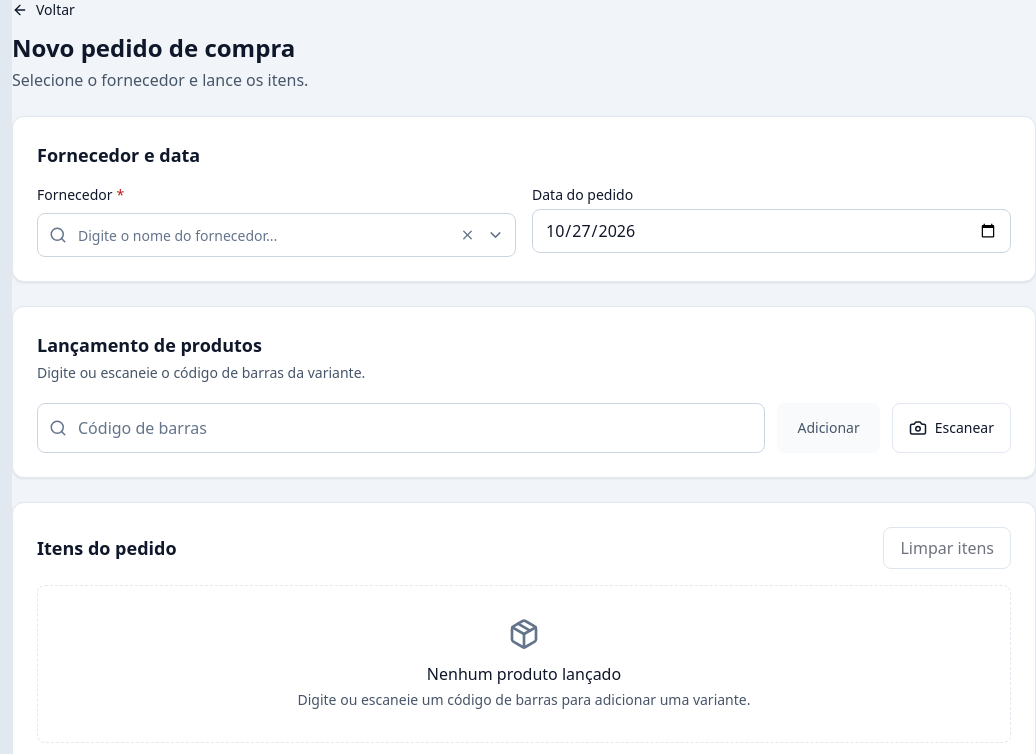
it: PurchaseCreatePage › mais de 2 casas decimais é inválido: mensagem no campo e nenhum envio
Step 1. Type "Acm" into the dropdown with placeholder "Digite o nome do fornecedor..." → (276, 235), box [37, 213, 516, 257]
(page scrolled)
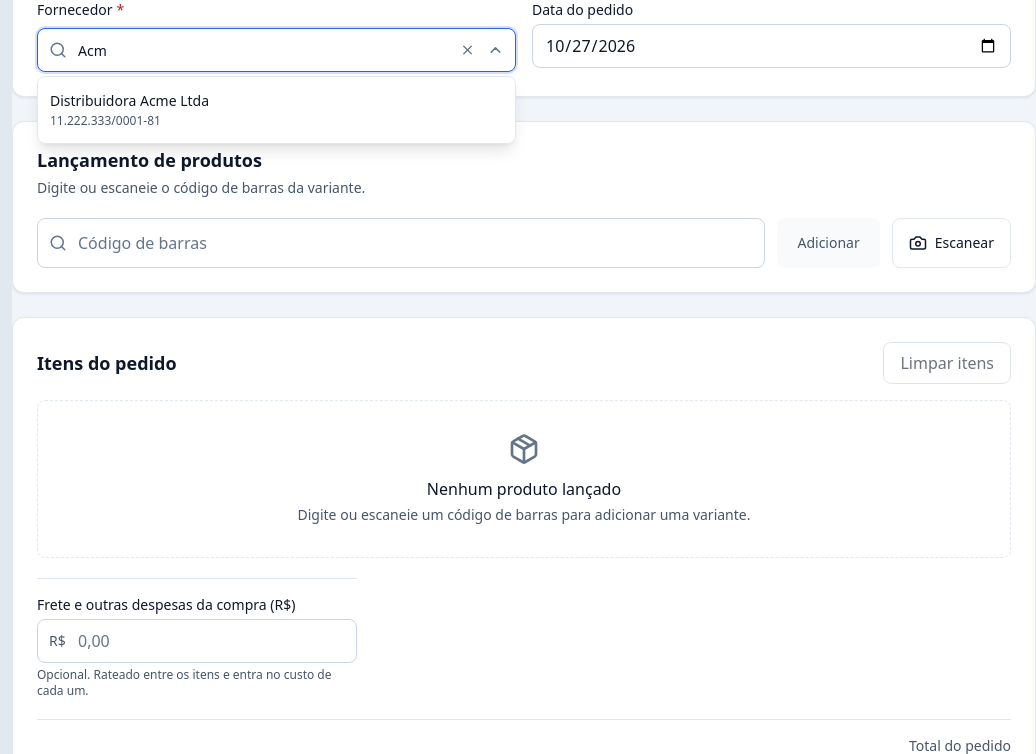
Step 2. Click the text "Distribuidora Acme Ltda" → (130, 101), box [50, 91, 209, 111]
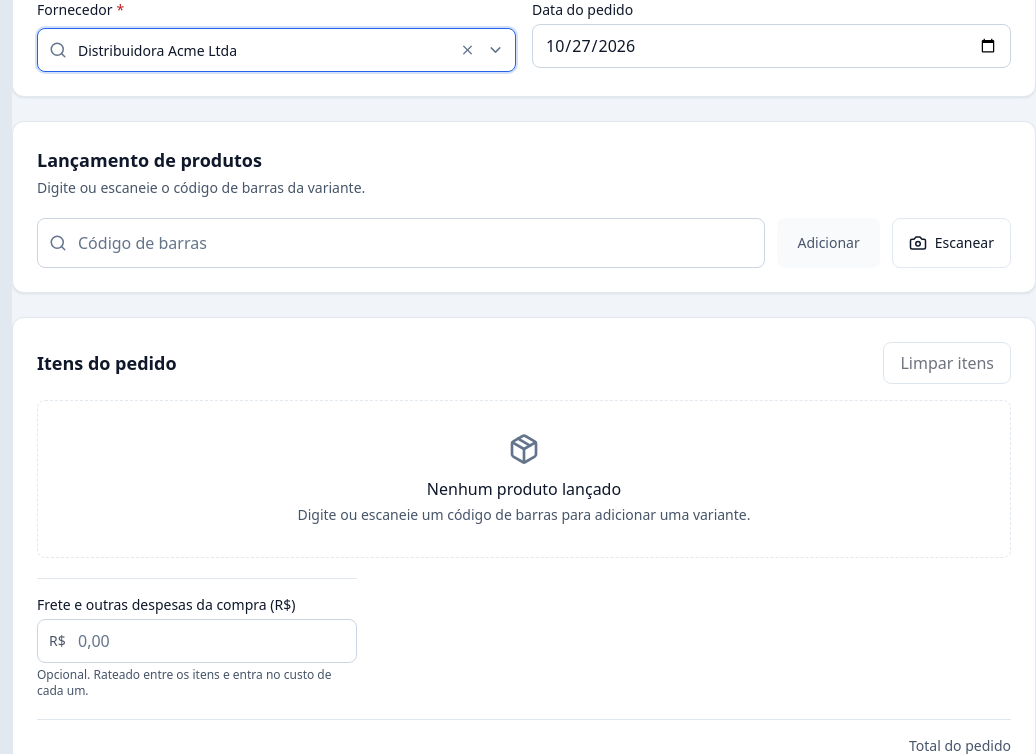
Step 3. Type "111" into the field named "Código de barras do produto" → (401, 243), box [37, 218, 766, 268]
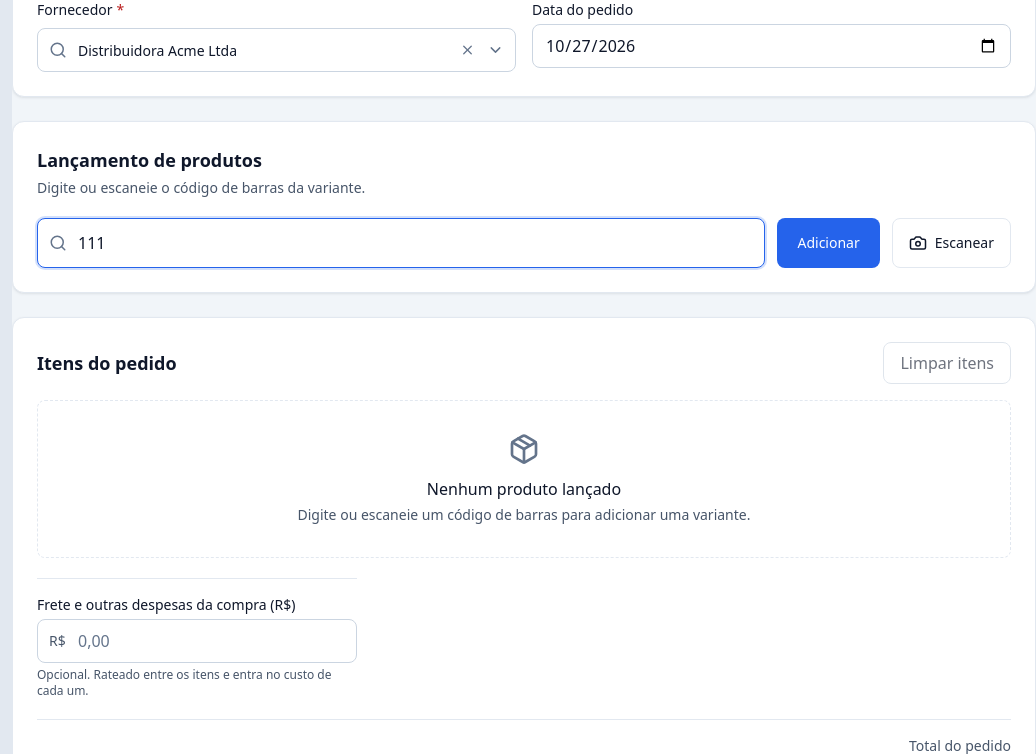
Step 4. Click the button "Adicionar" → (829, 243), box [778, 218, 880, 268]
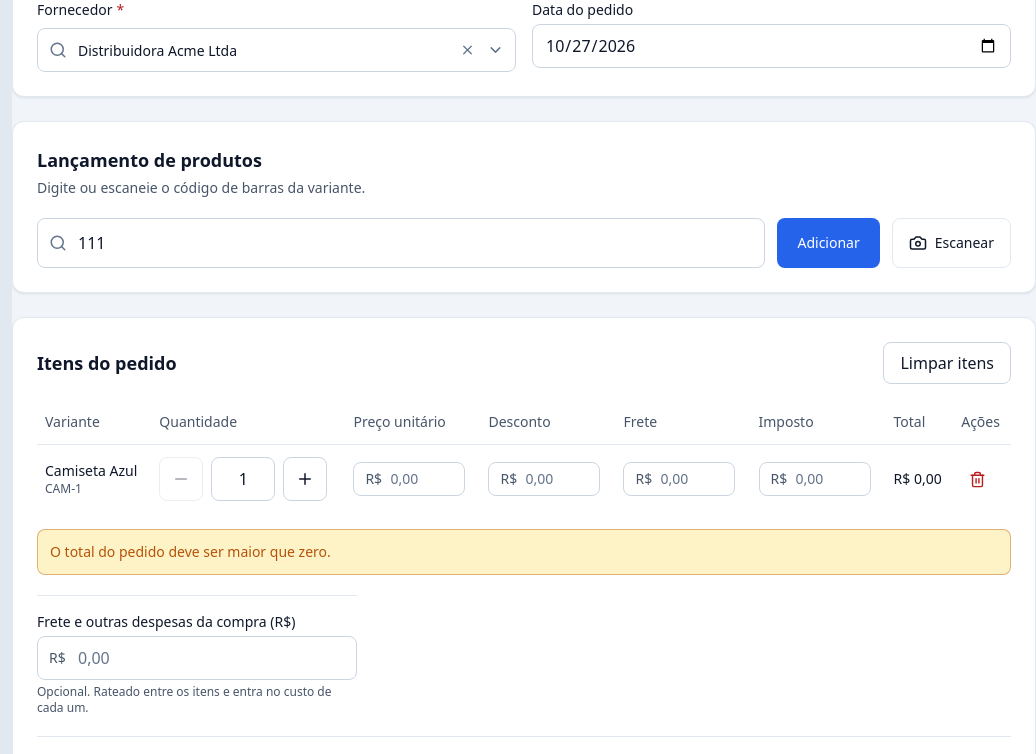
Check: the field named "Quantidade de Camiseta Azul" is shown, box [211, 457, 275, 501]
Step 5. Type "10,555" into the field named "Preço unitário de Camiseta Azul" → (409, 479), box [353, 462, 465, 496]
(page scrolled)
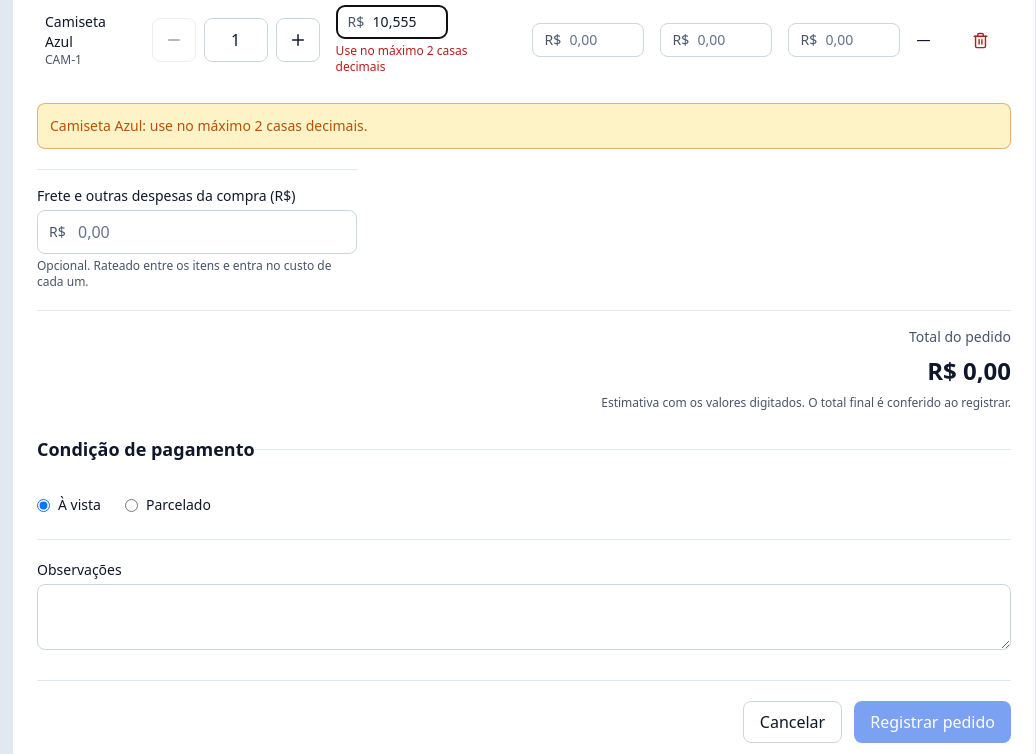
Check: the button "Registrar pedido" is disabled, box [854, 701, 1011, 743]
Check: the text "Use no máximo 2 casas decimais" is shown, box [336, 42, 468, 75]
Check: the message shows "2 casas decimais", box [50, 116, 368, 135]
